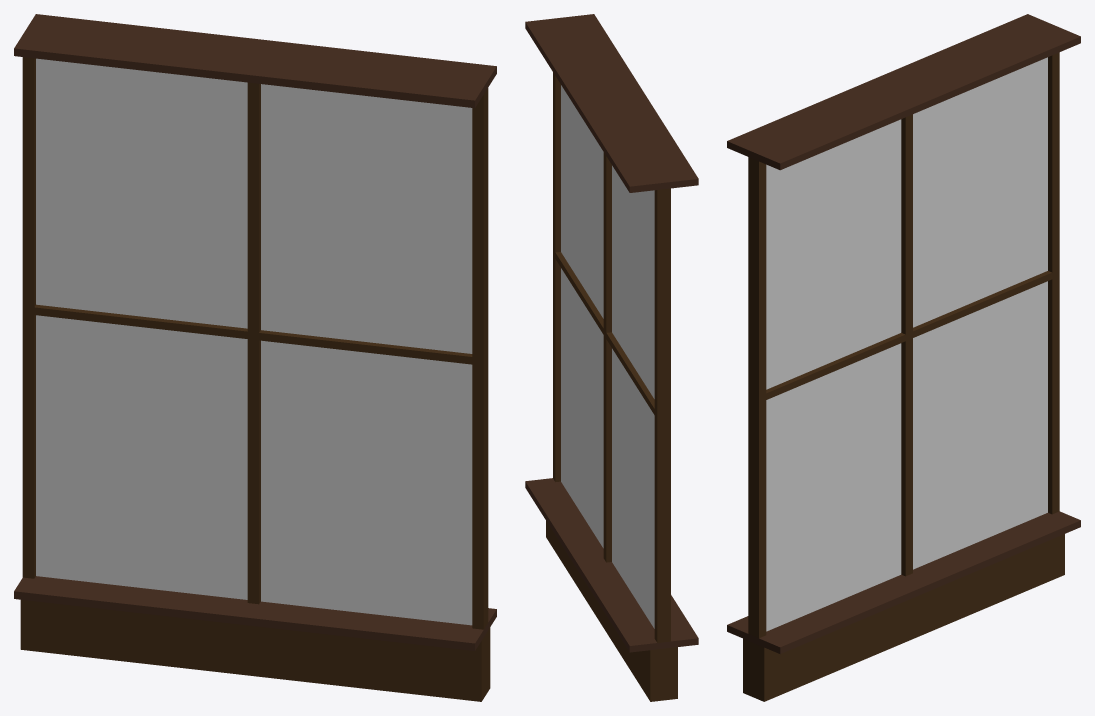
File: window_corner.fbx
The picture shows the model from 3 angles, left to right: view 1: azimuth 30°, elevation 25°; view 2: azimuth 150°, elevation 25°; view 3: azimuth 270°, elevation 25°; orthographic projection. The views are drawn at different scales.
Visible parts, largest first — view 1: Window_Corner; view 2: Window_Corner; view 3: Window_Corner.
Part boxes in pixels (x1,y1,x2,y2): Window_Corner: (14,14,496,701); Window_Corner: (525,14,698,701); Window_Corner: (727,14,1080,701).
Size of the model in its own units: 118 by 200 by 118.
